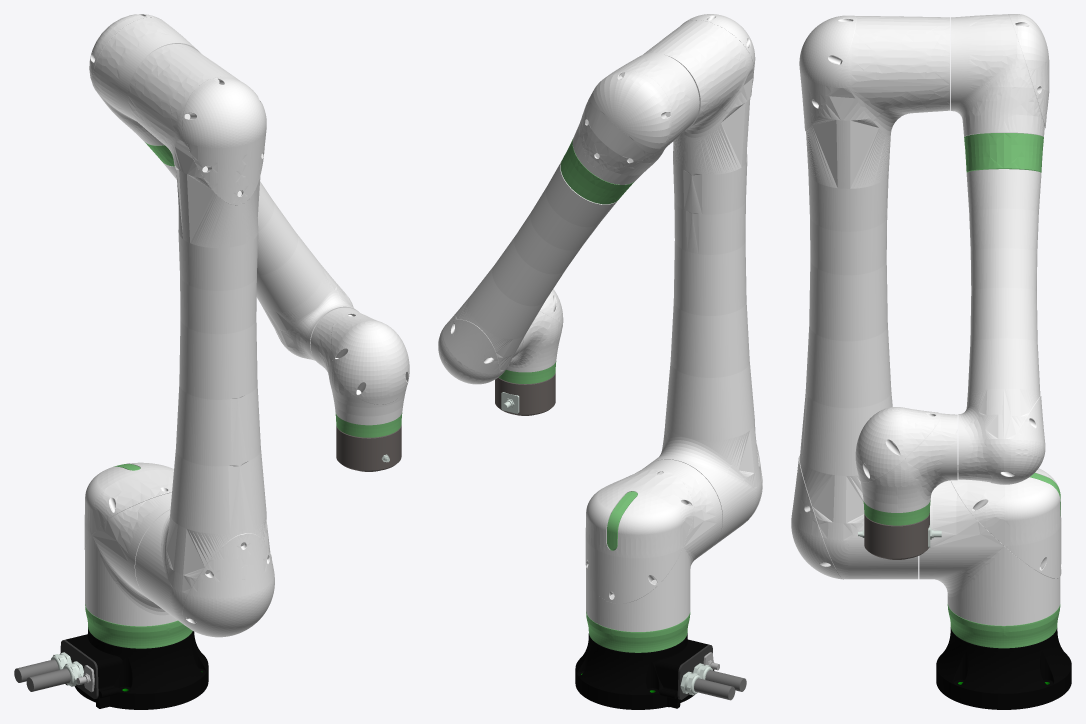
File: Cobot.glb
The picture shows the model from 3 angles, left to right: view 1: azimuth 30°, elevation 25°; view 2: azimuth 150°, elevation 25°; view 3: azimuth 270°, elevation 25°; orthographic projection. The views are drawn at different scales.
Visible parts, largest first — view 1: imagetostl_mesh0, Cobot, imagetostl_mesh7, imagetostl_mesh7.002; view 2: imagetostl_mesh0, Cobot, imagetostl_mesh7, imagetostl_mesh7.002; view 3: imagetostl_mesh0, imagetostl_mesh7, Cobot, imagetostl_mesh7.002.
Part boxes in pixels (x1,y1,x2,y2): imagetostl_mesh0: [127, 44, 274, 637]; Cobot: [14, 462, 208, 709]; imagetostl_mesh7: [89, 14, 358, 360]; imagetostl_mesh7.002: [310, 307, 409, 471]; imagetostl_mesh0: [643, 14, 762, 548]; Cobot: [575, 459, 746, 709]; imagetostl_mesh7: [438, 53, 699, 384]; imagetostl_mesh7.002: [495, 289, 563, 415]; imagetostl_mesh0: [791, 15, 949, 579]; imagetostl_mesh7: [950, 14, 1049, 484]; Cobot: [919, 465, 1071, 709]; imagetostl_mesh7.002: [855, 407, 957, 559].
Bounding box in the file's own units: 0.3923 × 0.7694 × 0.295.
